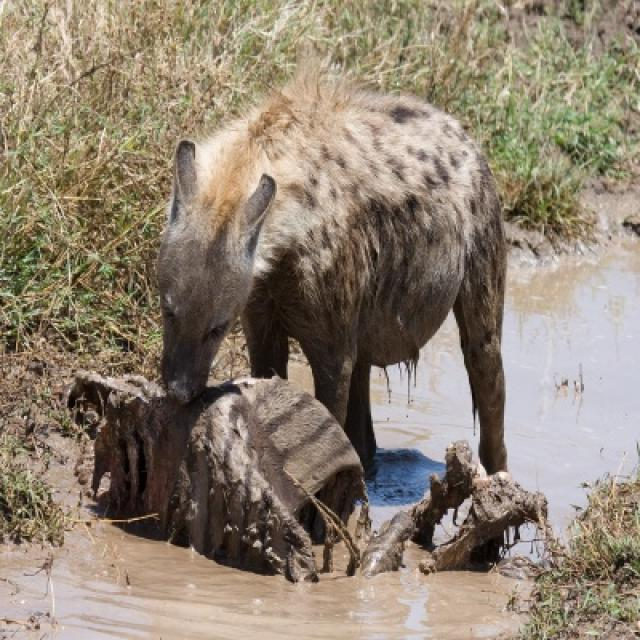hyena: (157, 54, 509, 480)
